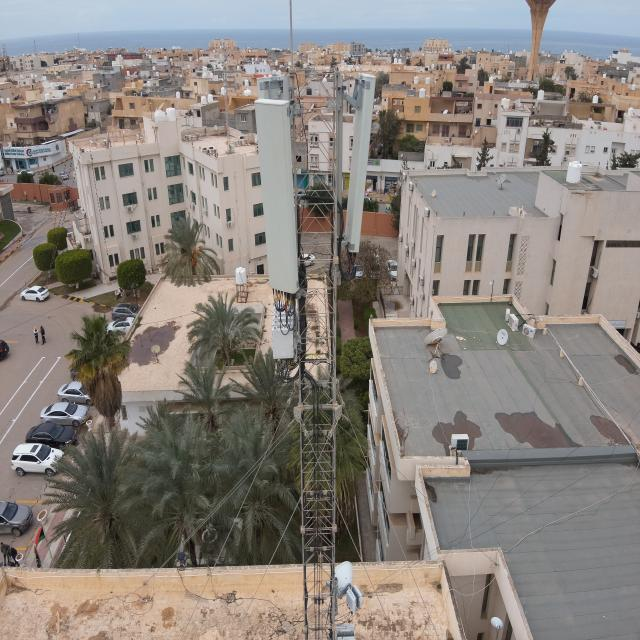antenna: (252, 96, 303, 295), (258, 75, 301, 269), (342, 71, 379, 256)
lighnig-rad: (288, 0, 298, 75)
microware-dish: (330, 559, 364, 616)
power-box: (334, 621, 358, 640)
radio-unit: (272, 302, 295, 366)
